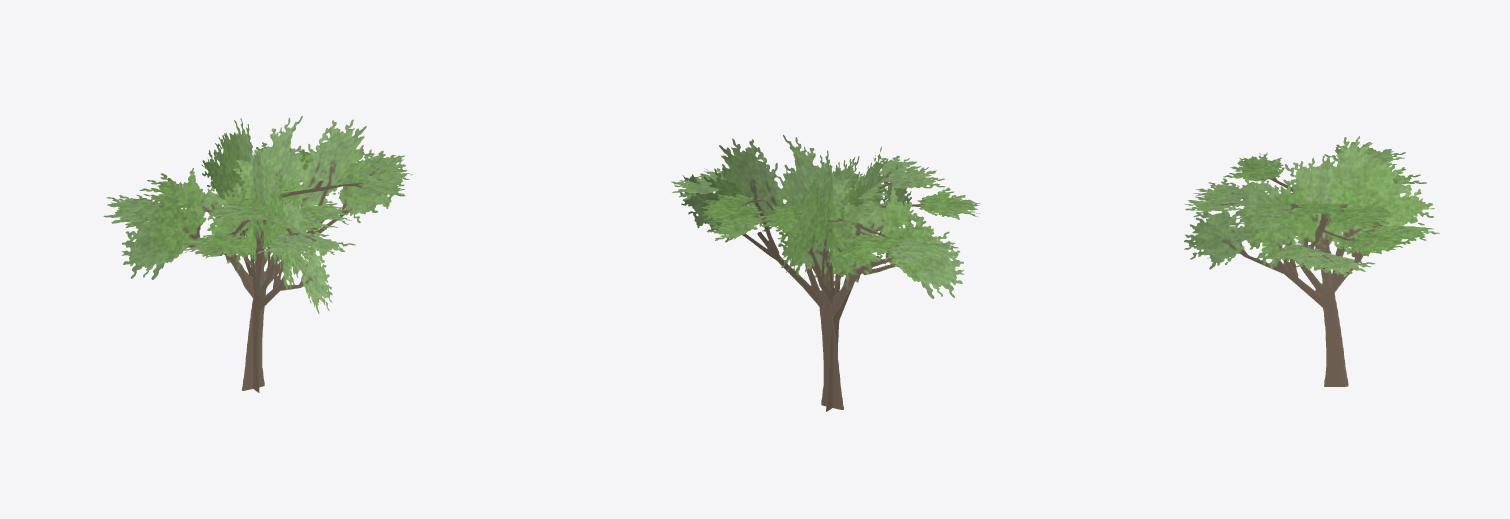
The model's file is oak_3_far.glb.
3 views of the same model, side by side, from view 1: azimuth 30°, elevation 25°; view 2: azimuth 150°, elevation 25°; view 3: azimuth 270°, elevation 25° (orthographic). The views are drawn at different scales.
Parts seen in each view (by area): view 1: oak_3_far; view 2: oak_3_far; view 3: oak_3_far.
Part boxes in pixels (x1,y1,x2,y2): oak_3_far: (103,115,412,392); oak_3_far: (671,134,980,411); oak_3_far: (1184,136,1439,386).
Size of the model in its own units: 12.06 by 12.06 by 12.06.
Materials: 1 (1 with a texture image).
